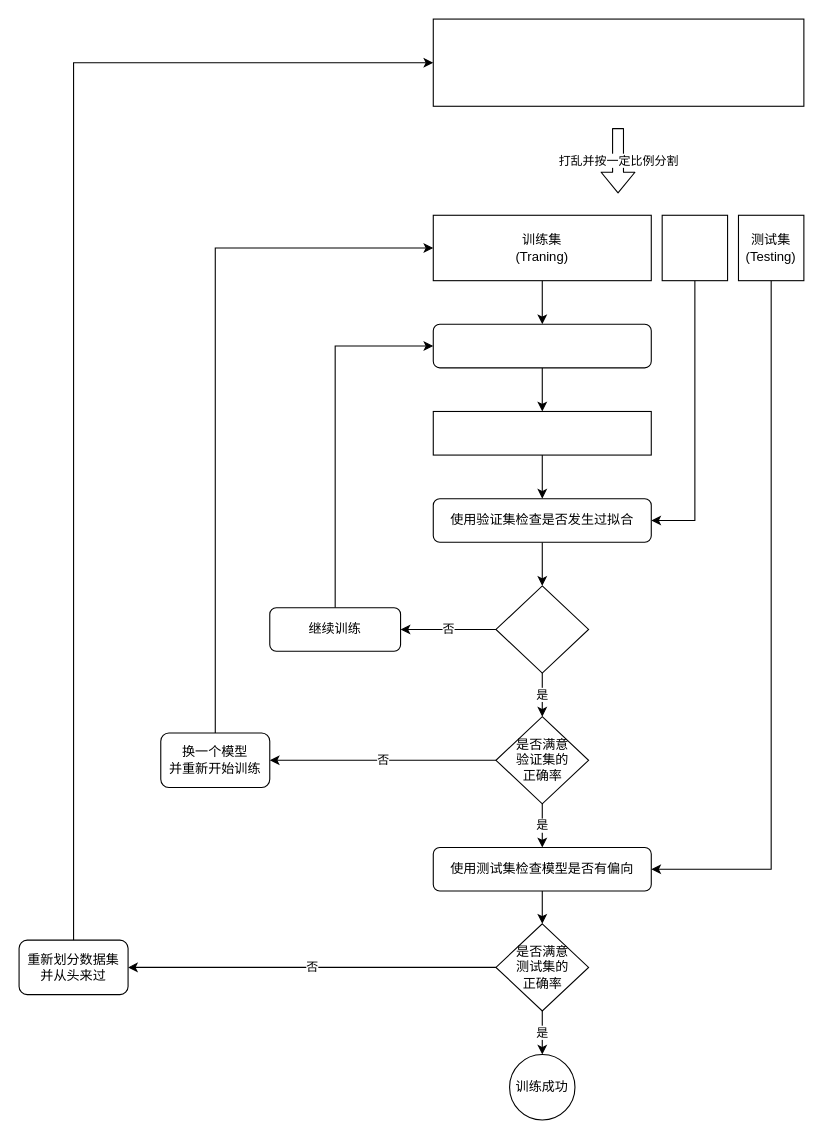
This 823x1139 diagram has some shape labels left out. The shapes that lost their labels are listed below. From the top down, each one's centre as x and y in pixels, then its label:
(618,62): 事先准备好的数据集
(694,247): 验证集 (Validating)
(541,345): 开始一轮训练 (1 Epoch)
(541,432): 模型
(542,629): 发生过拟合?
